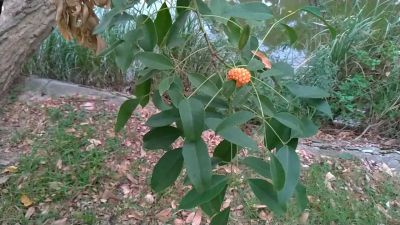eggs: (227, 65, 255, 85)
